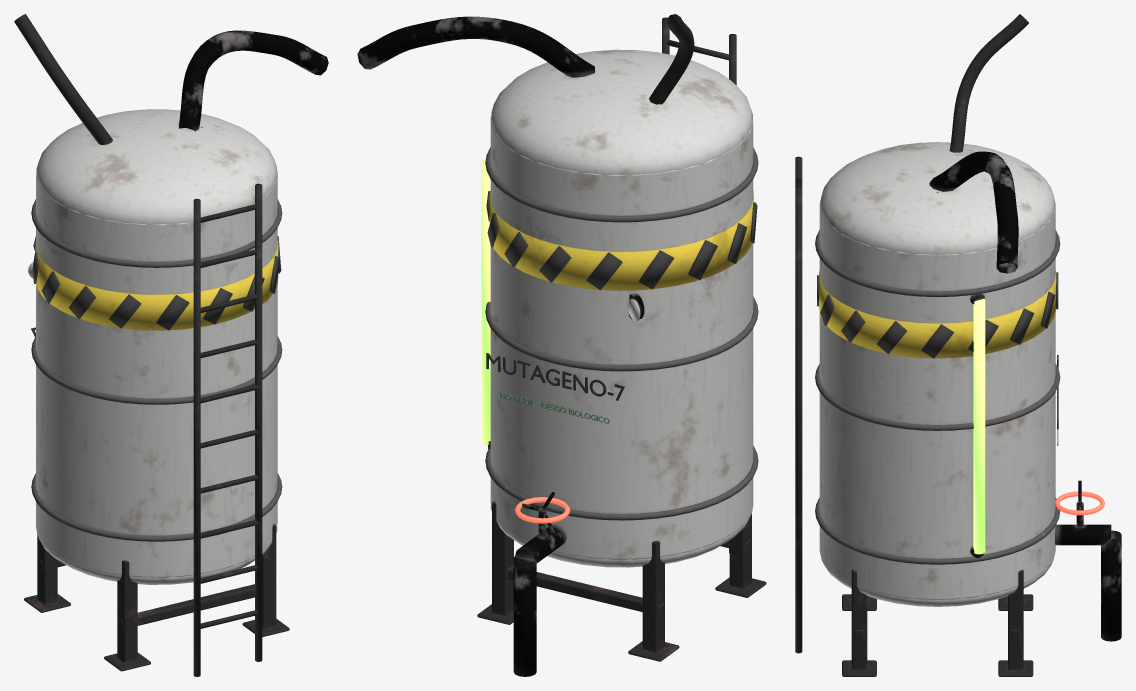
The model's file is tanque_quimico.glb.
3 views of the same model, side by side, from view 1: azimuth 30°, elevation 25°; view 2: azimuth 150°, elevation 25°; view 3: azimuth 270°, elevation 25° (orthographic). The views are drawn at different scales.
Visible parts, largest first — view 1: tanque_quimico; view 2: tanque_quimico; view 3: tanque_quimico.
Boxes of the visible parts, bbox=[...] form: tanque_quimico: bbox=[14, 14, 328, 676]; tanque_quimico: bbox=[357, 14, 766, 676]; tanque_quimico: bbox=[795, 14, 1121, 676].
Size of the model in its own units: 2.04 by 3.68 by 1.88.
3 materials, 1 textured.
